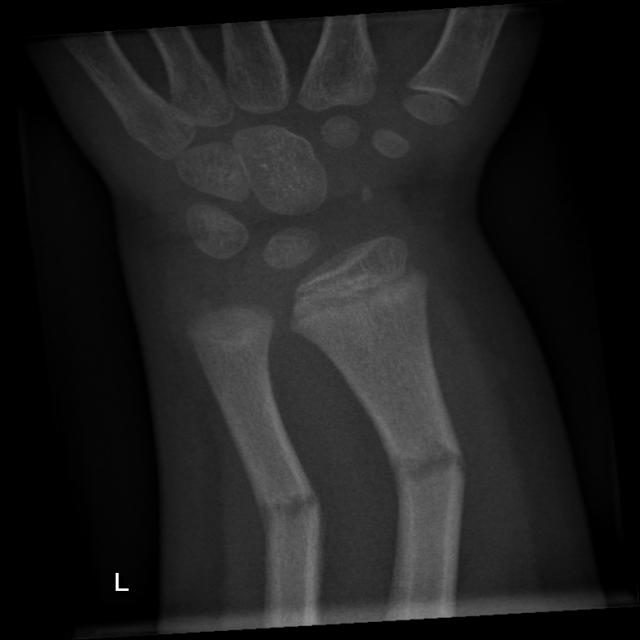radius fracture: (377, 398, 473, 546)
ulna fracture: (247, 422, 332, 581)
